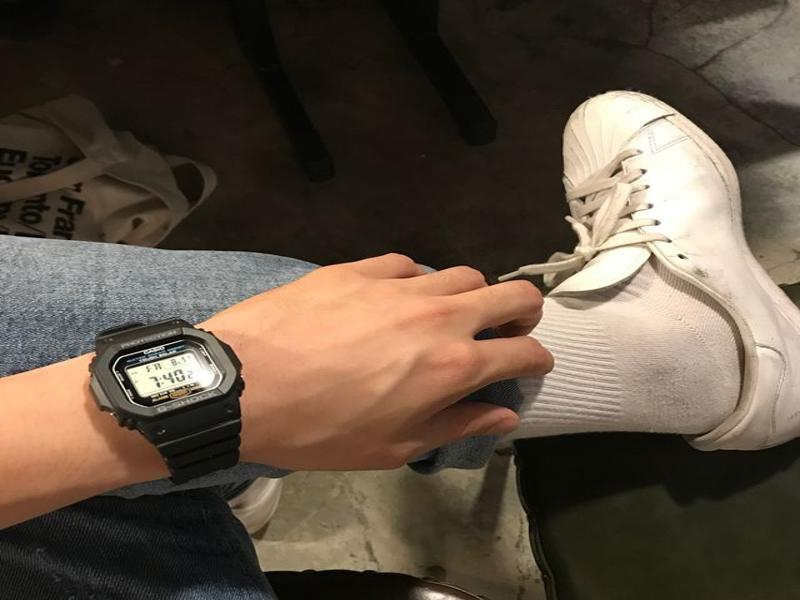watch: (90, 316, 245, 484)
